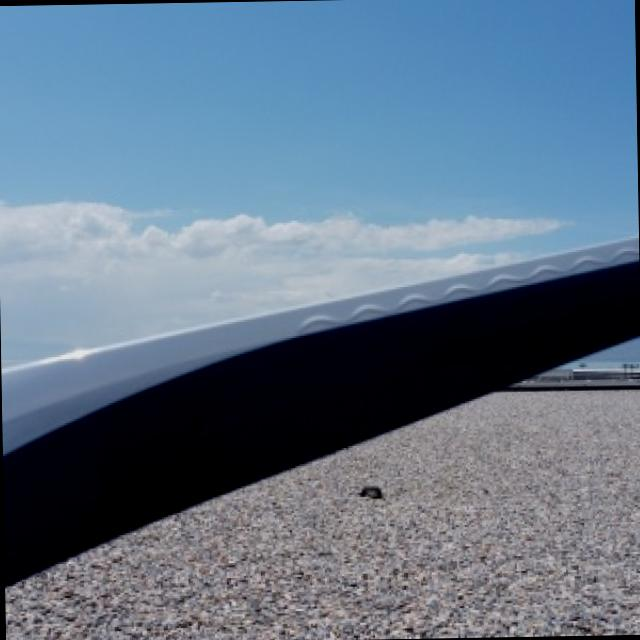healthy: (1, 236, 638, 579)
